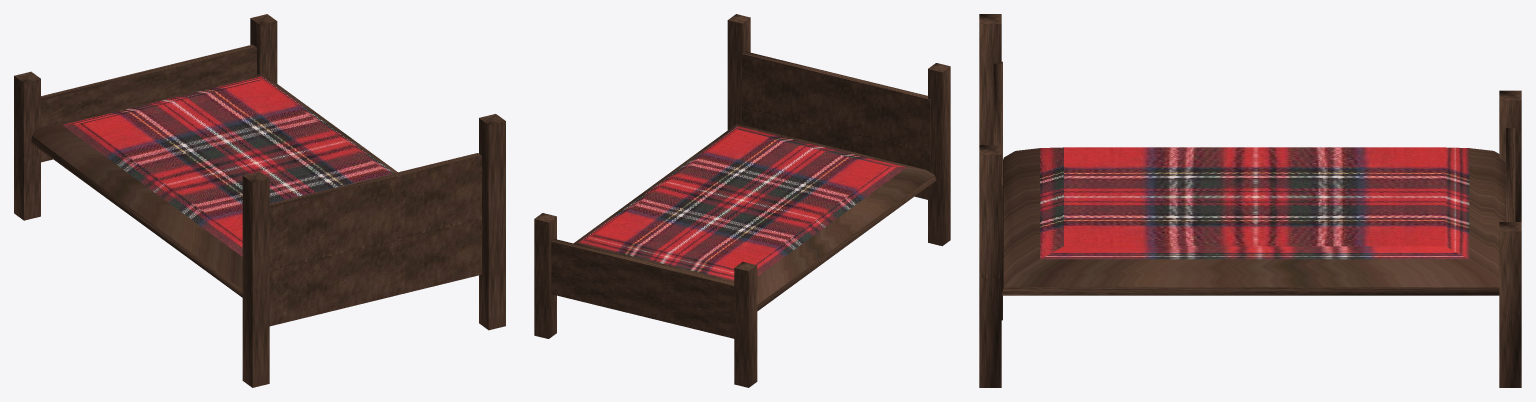
Rendered from objects_bed_single_2.glb.
3 views of the same model, side by side, from view 1: azimuth 30°, elevation 25°; view 2: azimuth 150°, elevation 25°; view 3: azimuth 270°, elevation 25° (orthographic). The views are drawn at different scales.
Parts seen in each view (by area): view 1: bed_single_2; view 2: bed_single_2; view 3: bed_single_2.
Part boxes in pixels (x1,y1,x2,y2): bed_single_2: (14, 14, 505, 387); bed_single_2: (534, 14, 950, 387); bed_single_2: (979, 14, 1521, 387).
Bounding box in the file's own units: 2.74 × 2.12 × 4.47.
2 materials, 2 textured.
